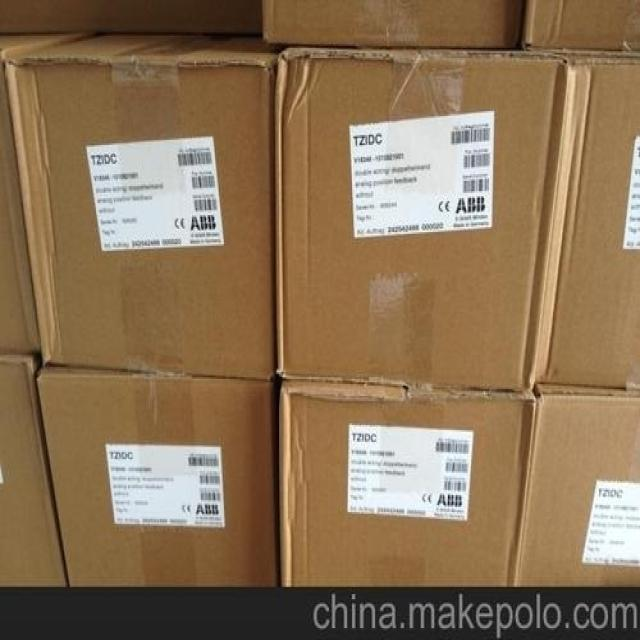box: (271, 44, 566, 395), (6, 33, 276, 377), (34, 357, 280, 588), (281, 375, 534, 588), (532, 47, 639, 393), (0, 32, 91, 356), (510, 391, 639, 585), (0, 352, 68, 587), (260, 0, 528, 47), (2, 1, 262, 35), (524, 0, 639, 49)
